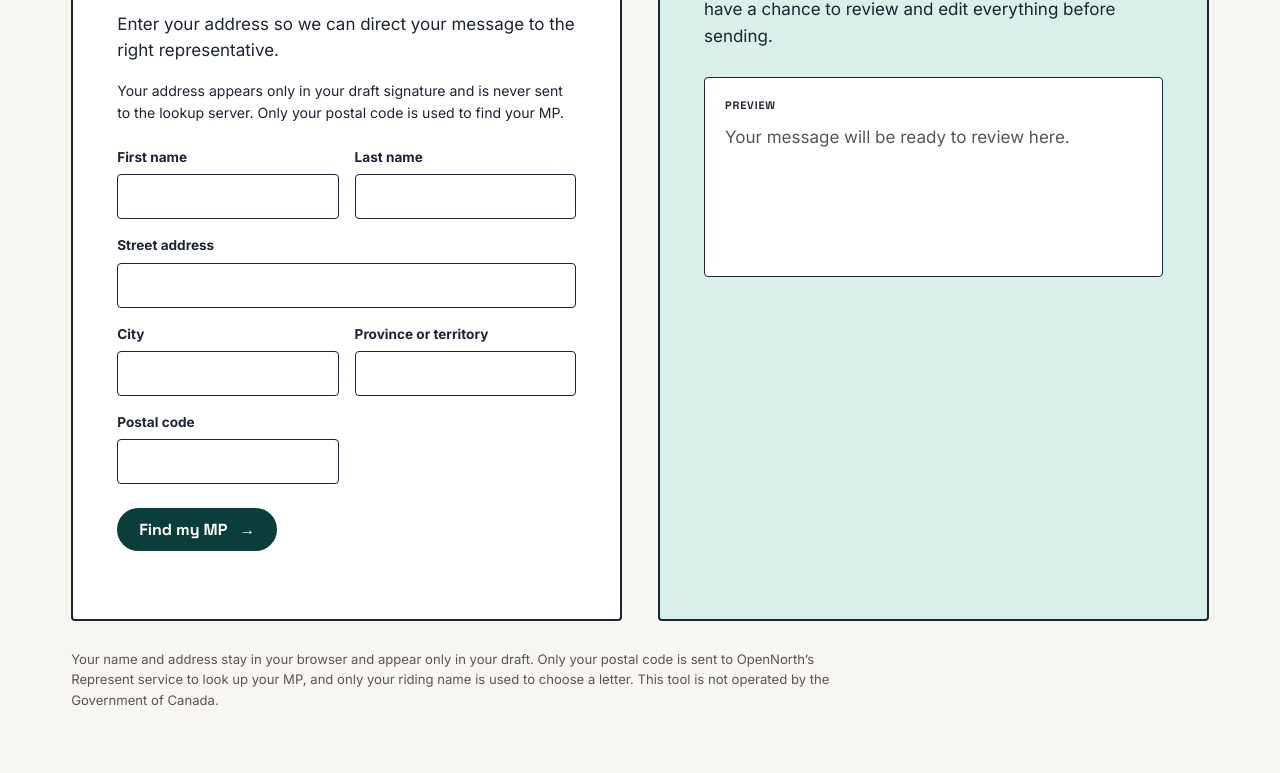
Test case: constituent lookup flow › requires constituent details before looking up a postcode
The image size is (1280, 773).
(page scrolled)
In the field labelled "Postal code": (228, 461) [117,439,339,484], type "K1A 0B1"
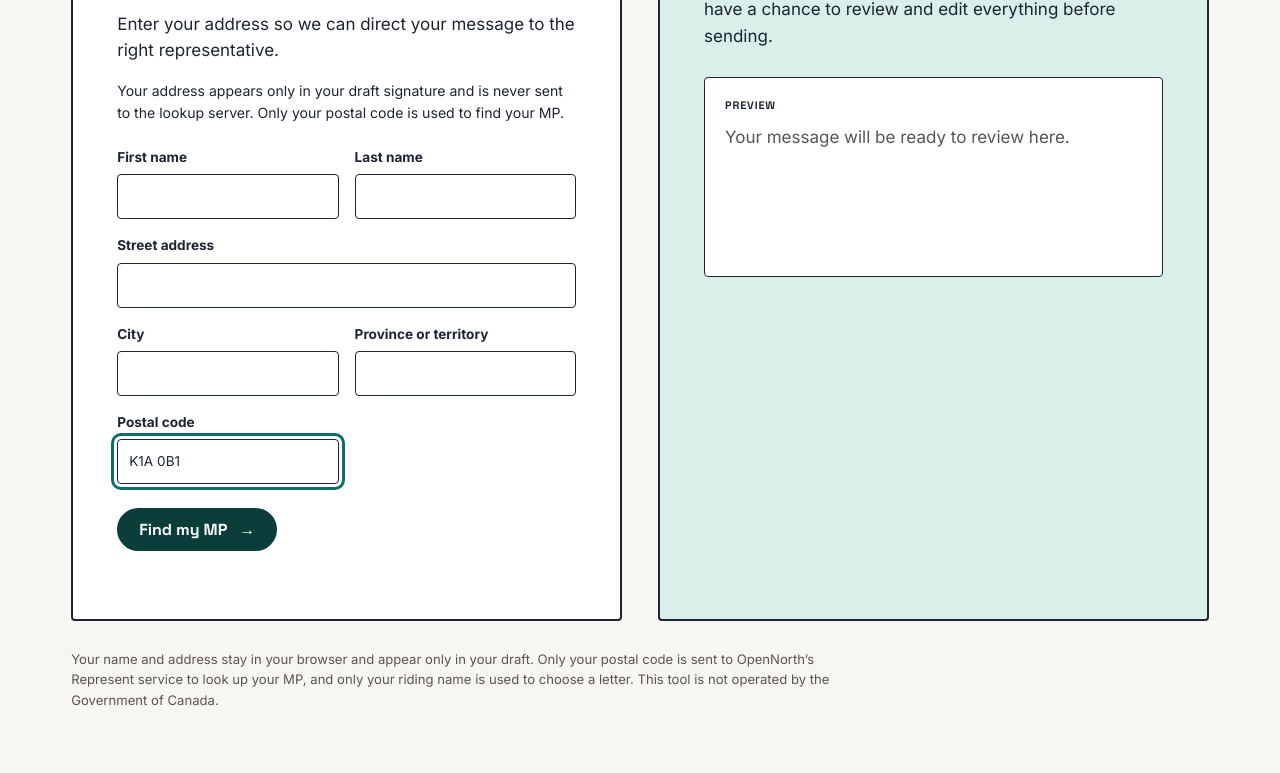
Click the button "Find my MP →": (197, 529) [117,508,277,551]
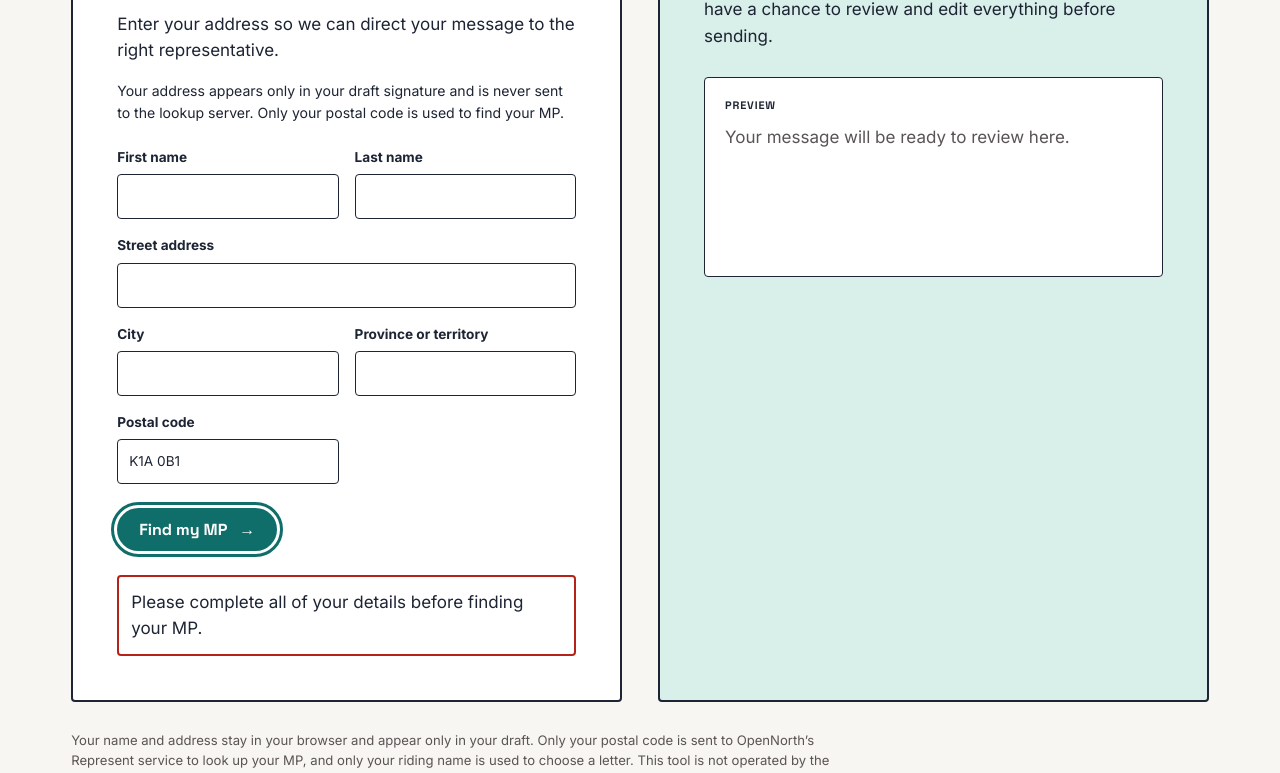
Check: the message shows "complete all of your details", box [131,592,523,638]
